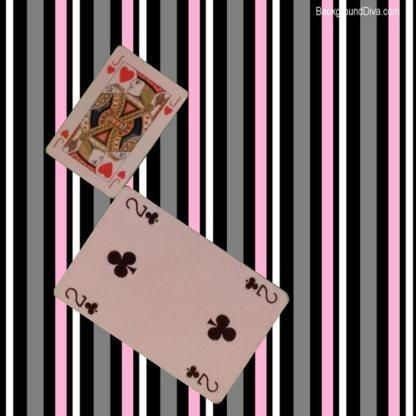2c: (62, 284, 100, 317), (242, 274, 280, 305)
Jh: (104, 52, 126, 81), (106, 168, 127, 190)
